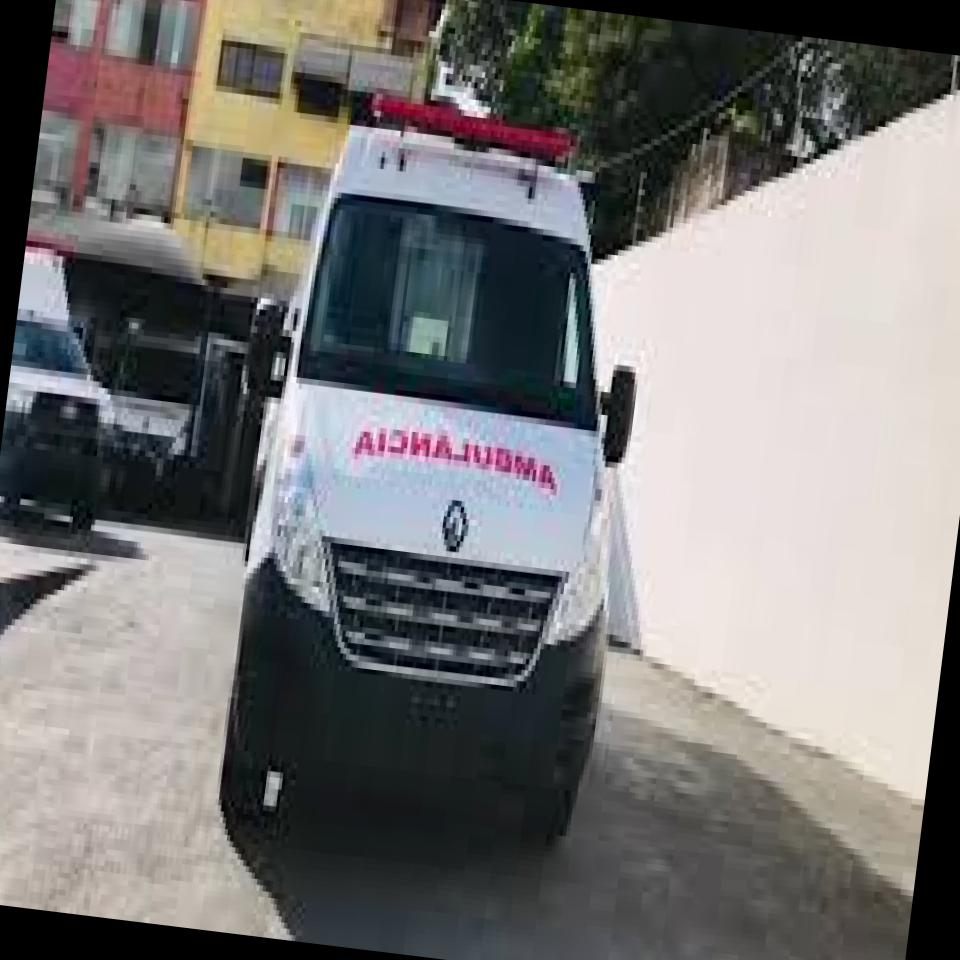bombeiro: (192, 82, 670, 862)
